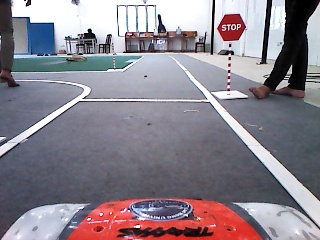stop: (216, 12, 247, 42)
